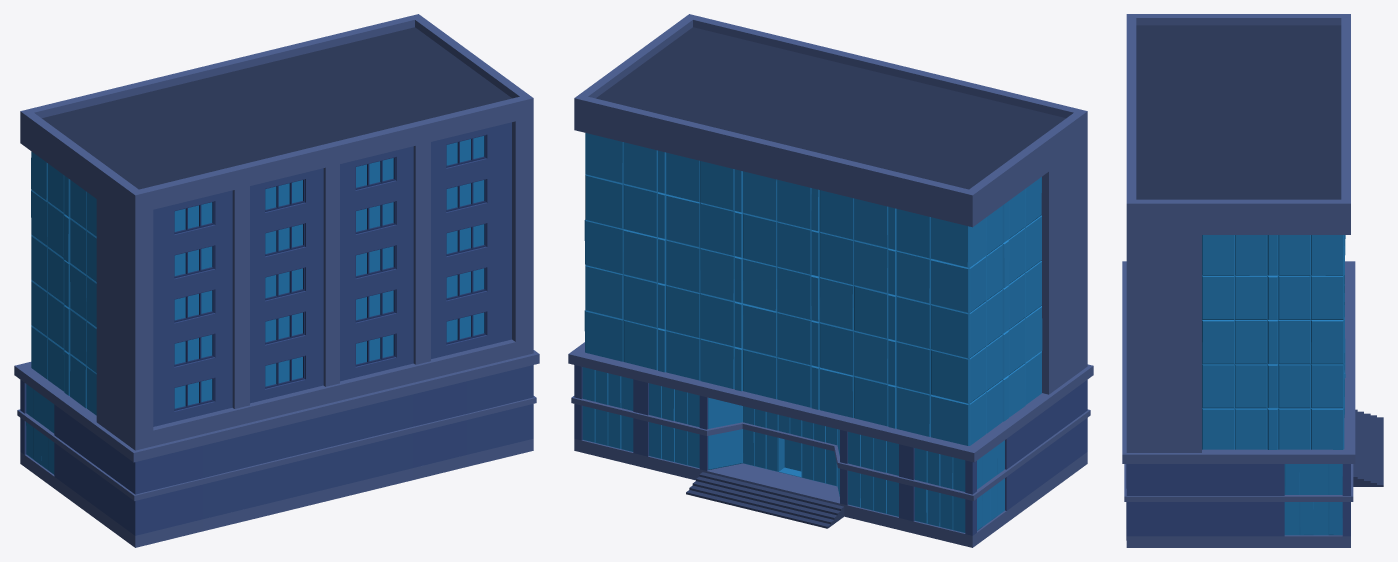
File: SkyA_Tile.fbx
3 renders of one model, left to right at view 1: azimuth 30°, elevation 25°; view 2: azimuth 150°, elevation 25°; view 3: azimuth 270°, elevation 25°, orthographic. The views are drawn at different scales.
Parts seen in each view (by area): view 1: skyA-High.001; view 2: skyA-High.001; view 3: skyA-High.001.
Part boxes in pixels (box(x1,y1,x2,y2)): skyA-High.001: box(14, 14, 539, 547); skyA-High.001: box(568, 14, 1093, 547); skyA-High.001: box(1122, 14, 1383, 547).
Size of the model in its own units: 42.79 by 35.52 by 24.44.
